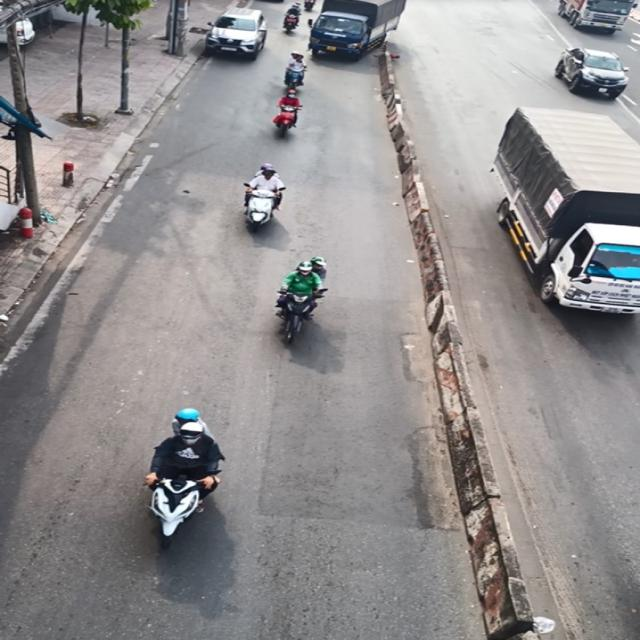car: (556, 46, 636, 100)
motor: (135, 402, 241, 566), (264, 247, 352, 341), (232, 156, 297, 240)
